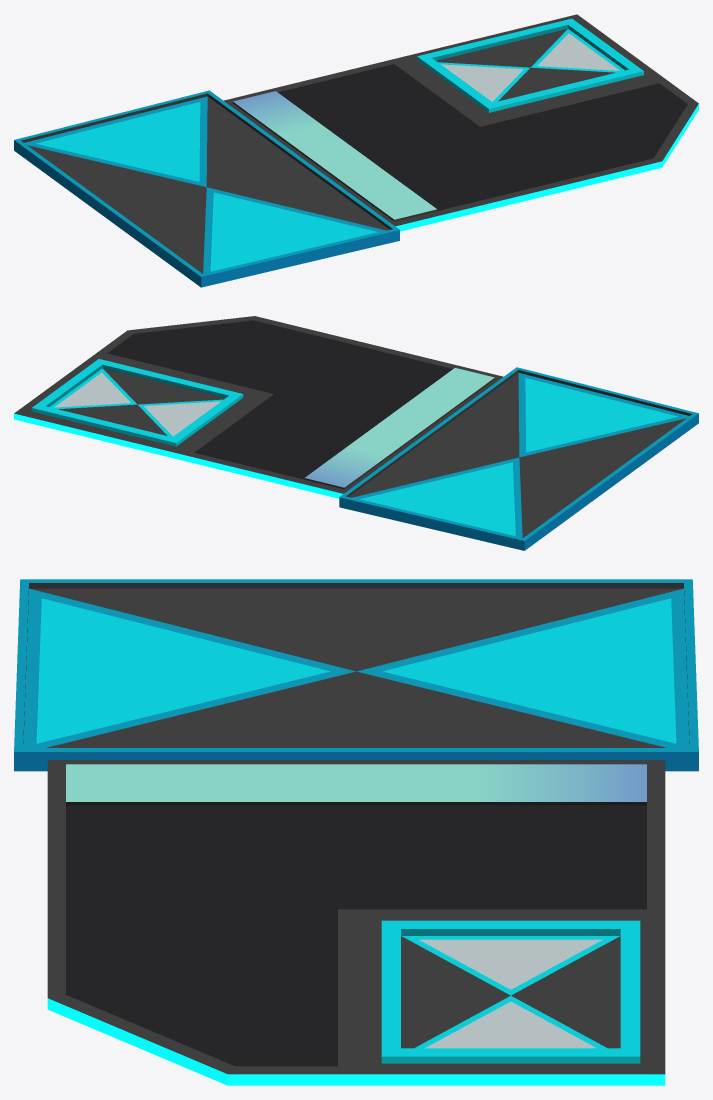
File: Blue_Access_Card.glb
3 views of the same model, one above another, from view 1: azimuth 30°, elevation 25°; view 2: azimuth 150°, elevation 25°; view 3: azimuth 270°, elevation 25° (orthographic). The views are drawn at different scales.
Parts seen in each view (by area): view 1: SciFiKey_BlueAccessCard; view 2: SciFiKey_BlueAccessCard; view 3: SciFiKey_BlueAccessCard.
Boxes of the visible parts, x1,y1,x2,y2 form: SciFiKey_BlueAccessCard: (14, 14, 698, 287); SciFiKey_BlueAccessCard: (14, 316, 698, 550); SciFiKey_BlueAccessCard: (14, 579, 698, 1085).
Size of what is drawn, in the model's own units: 0.8931 by 0.0167 by 0.5307.
1 material, 1 textured.
